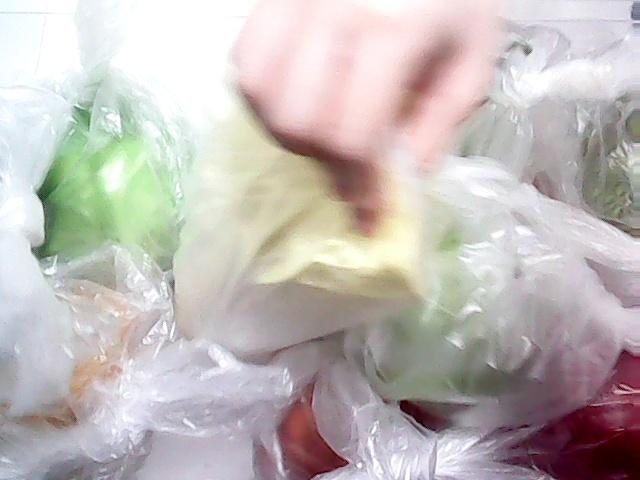apple: (492, 307, 639, 480)
cabbage: (24, 74, 200, 283), (571, 47, 640, 241)
napa cabbage: (93, 137, 443, 370)
peach: (254, 351, 444, 480)
potato: (0, 284, 140, 430)
